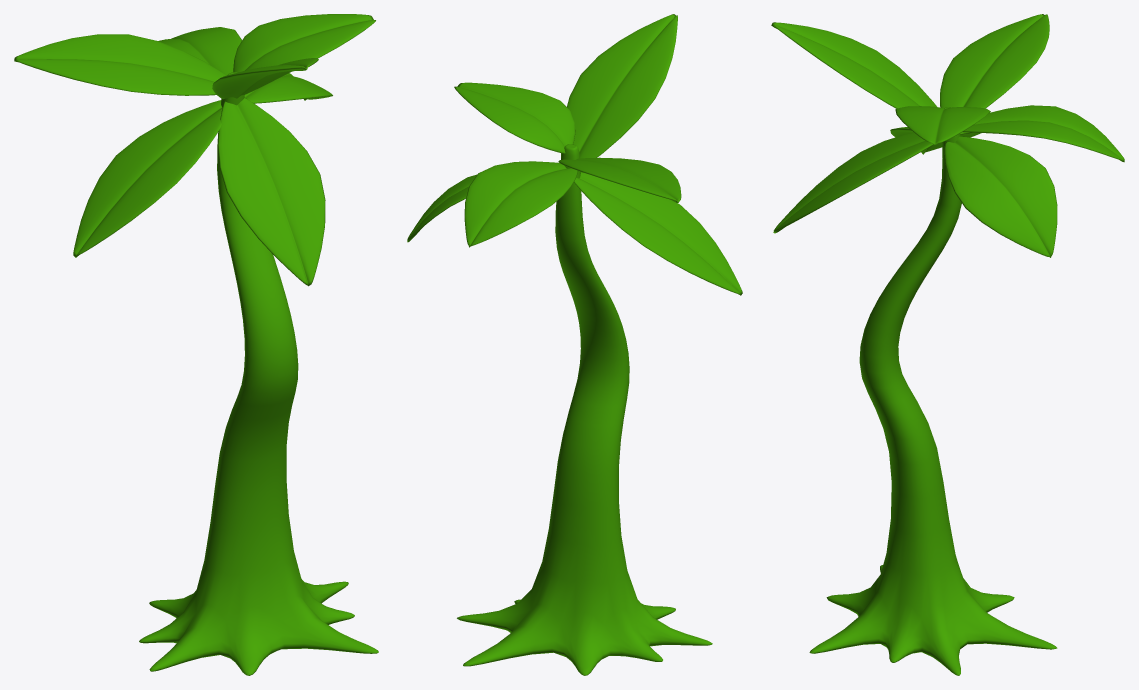
Rendered from LeafyPlant.fbx.
3 views of the same model, side by side, from view 1: azimuth 30°, elevation 25°; view 2: azimuth 150°, elevation 25°; view 3: azimuth 270°, elevation 25° (orthographic). The views are drawn at different scales.
Visible parts, largest first — view 1: Leafy_PLant; view 2: Leafy_PLant; view 3: Leafy_PLant.
Part boxes in pixels (x1=…): Leafy_PLant: x1=14, y1=14, x2=378, y2=675; Leafy_PLant: x1=407, y1=14, x2=742, y2=675; Leafy_PLant: x1=771, y1=14, x2=1124, y2=675.
Size of the model in its own units: 12.53 by 24.45 by 13.28.
